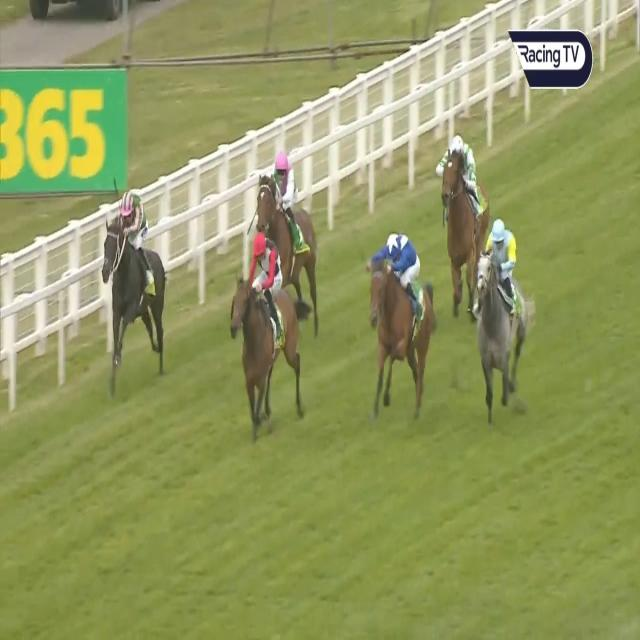horses-racing: (91, 177, 180, 375), (227, 221, 307, 424), (369, 231, 445, 407), (471, 206, 532, 422), (255, 143, 324, 297), (431, 126, 491, 300)
